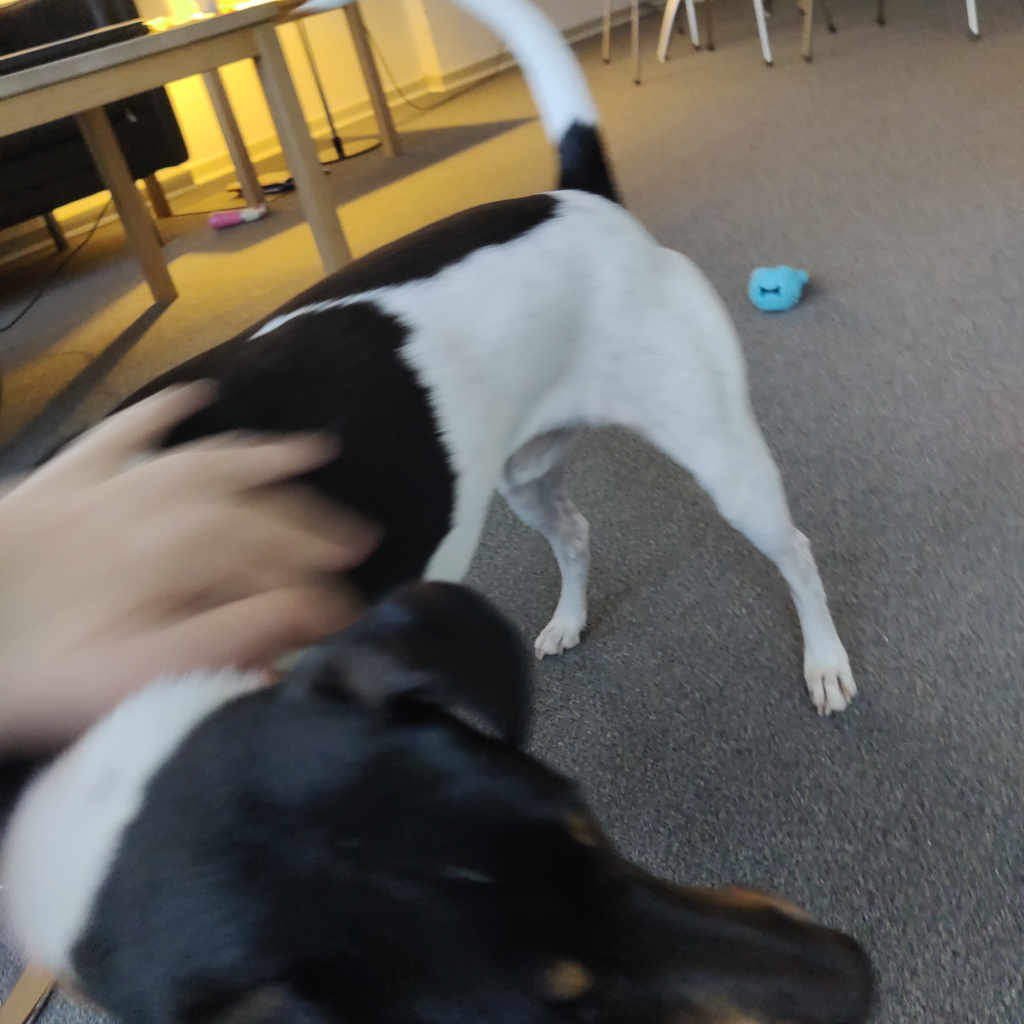Dog: (0, 0, 931, 1024)
Humanoid: (0, 340, 378, 812)
